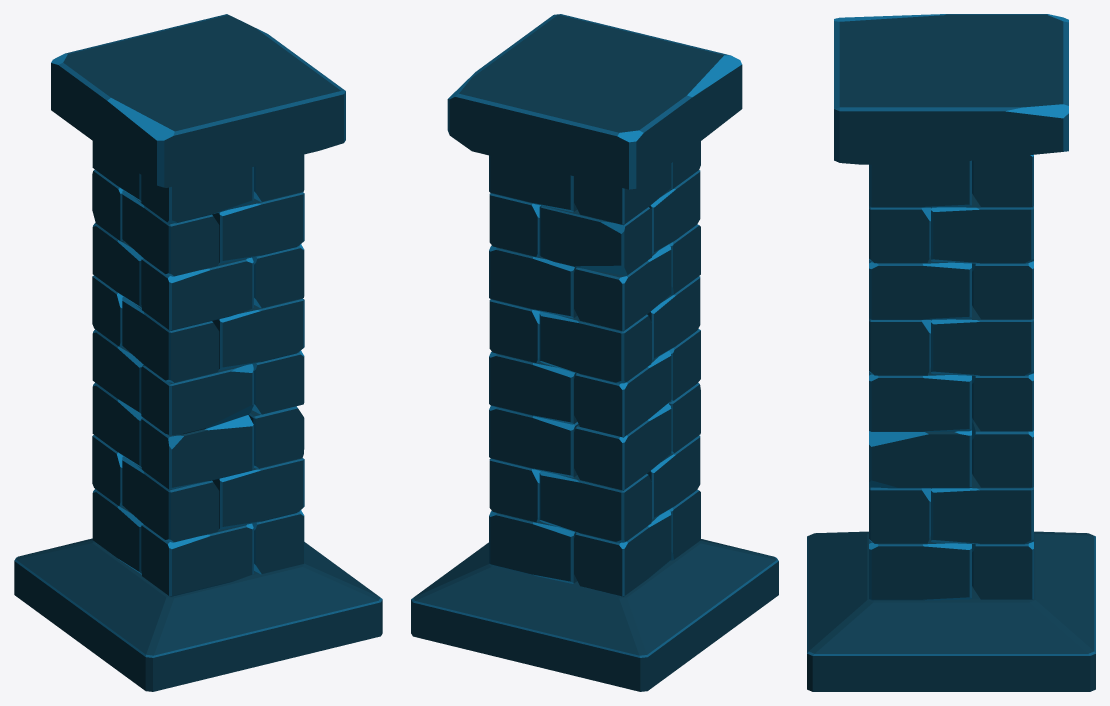
File: pillar_type_01.fbx
The picture shows the model from 3 angles, left to right: view 1: azimuth 30°, elevation 25°; view 2: azimuth 150°, elevation 25°; view 3: azimuth 270°, elevation 25°; orthographic projection. The views are drawn at different scales.
Visible parts, largest first — view 1: pillar_type_01; view 2: pillar_type_01; view 3: pillar_type_01.
Part boxes in pixels (x1,y1,x2,y2): pillar_type_01: [14, 14, 382, 691]; pillar_type_01: [411, 14, 778, 691]; pillar_type_01: [807, 14, 1095, 691].
Size of the model in its own units: 140 by 305 by 140.
